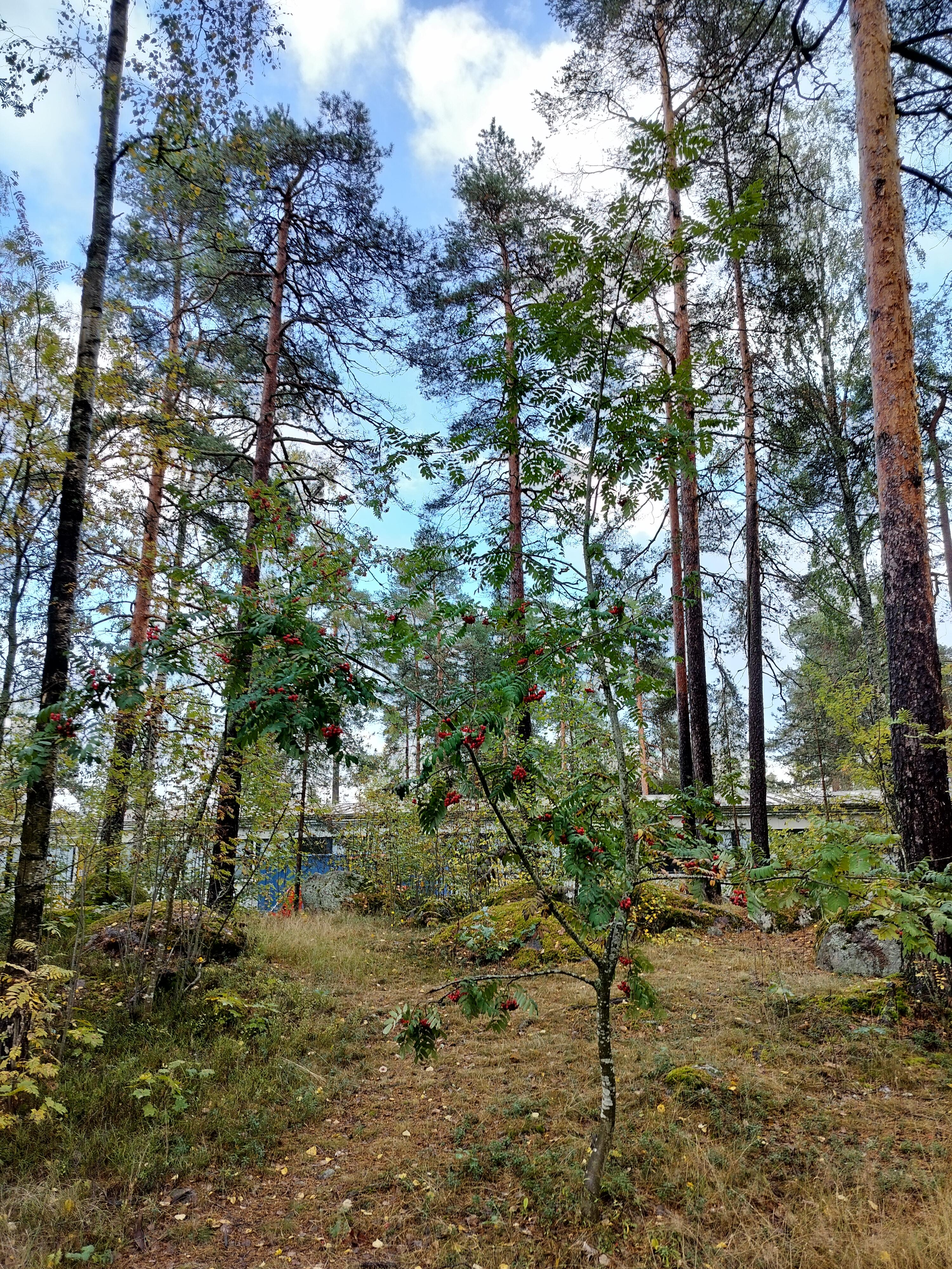Rowan: (241, 560, 719, 1250)
